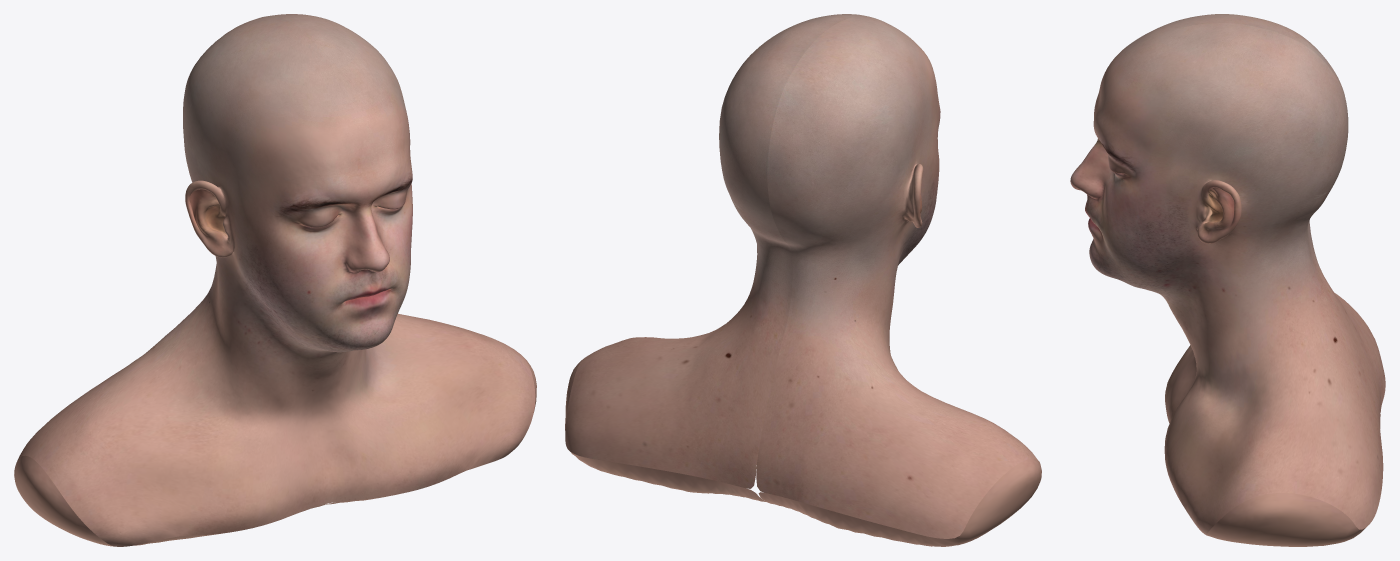
File: head.glb
3 renders of one model, left to right at view 1: azimuth 30°, elevation 25°; view 2: azimuth 150°, elevation 25°; view 3: azimuth 270°, elevation 25°, orthographic. The views are drawn at different scales.
Parts seen in each view (by area): view 1: head; view 2: head; view 3: head.
Boxes of the visible parts, left/top/right/bottom form: head: left=14, top=14, right=536, bottom=546; head: left=565, top=14, right=1041, bottom=546; head: left=1070, top=14, right=1385, bottom=546.
Size of the model in its own units: 0.4524 by 0.4205 by 0.274.
Materials: 1 (1 with a texture image).
